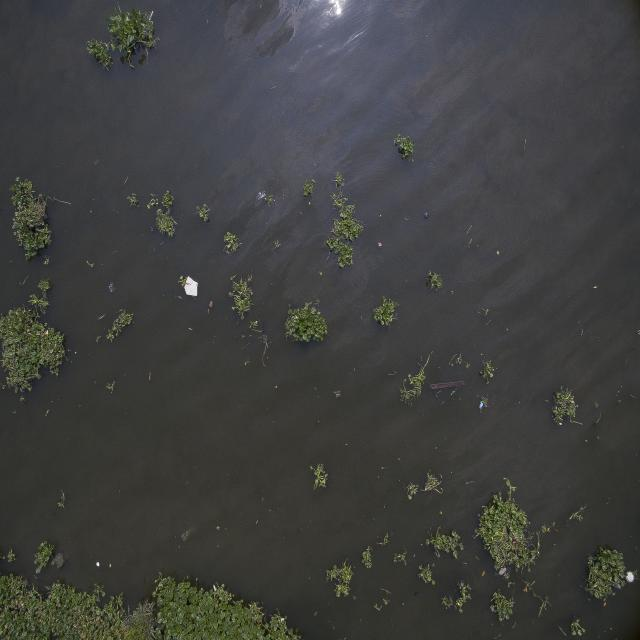plastic: (171, 270, 207, 304), (619, 567, 640, 591)
